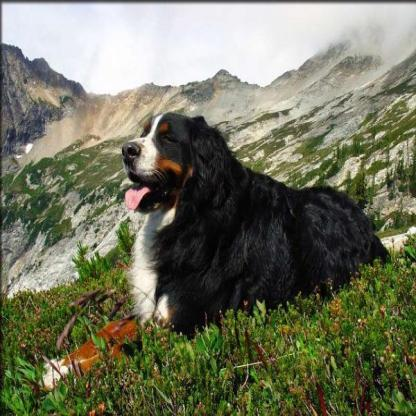Bernese_mountain_dog: (37, 108, 394, 392)
